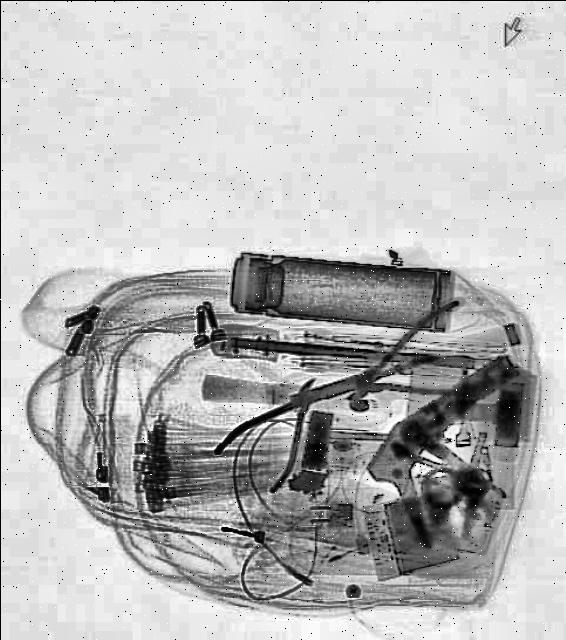Pliers: (325, 298, 496, 442), (210, 358, 348, 504)
